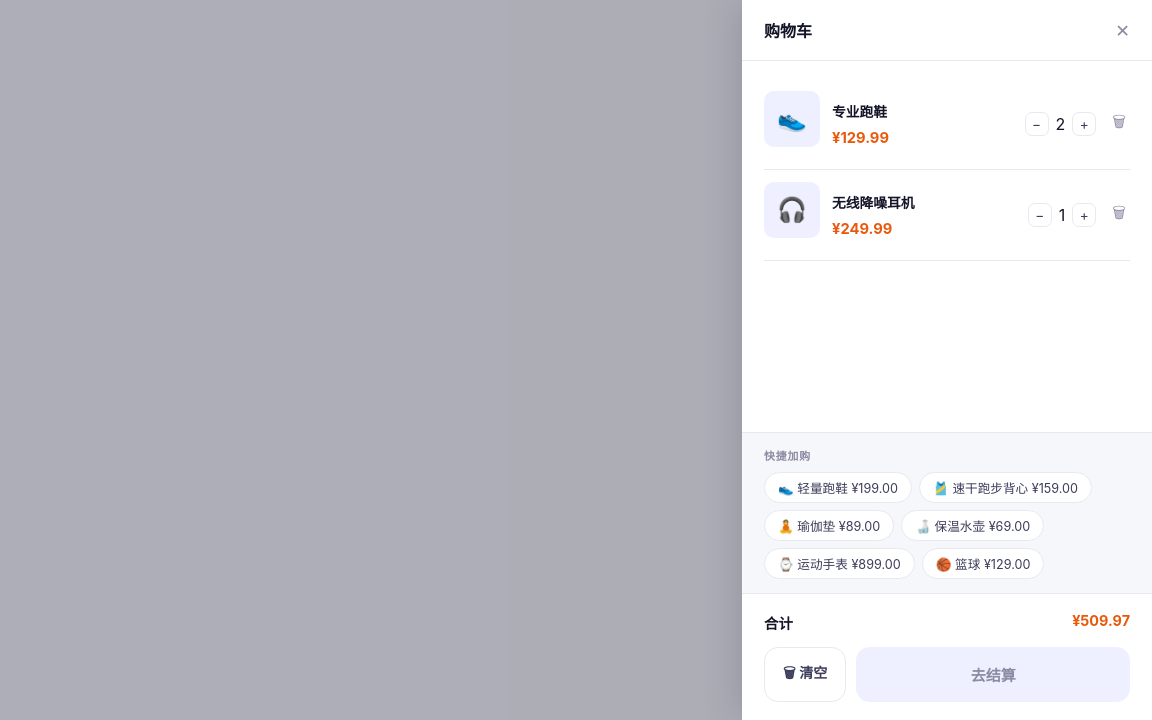
Test: 失败处理（R10-7） › 写请求 400：给出可见提示、本地投影保持与服务端一致
The image size is (1152, 720).
expect the text "专业跑鞋" is shown: met, box left=832, top=104, right=887, bottom=120
Click the button named "增加 专业跑鞋 数量" at [1084, 124], box left=1072, top=112, right=1096, bottom=136
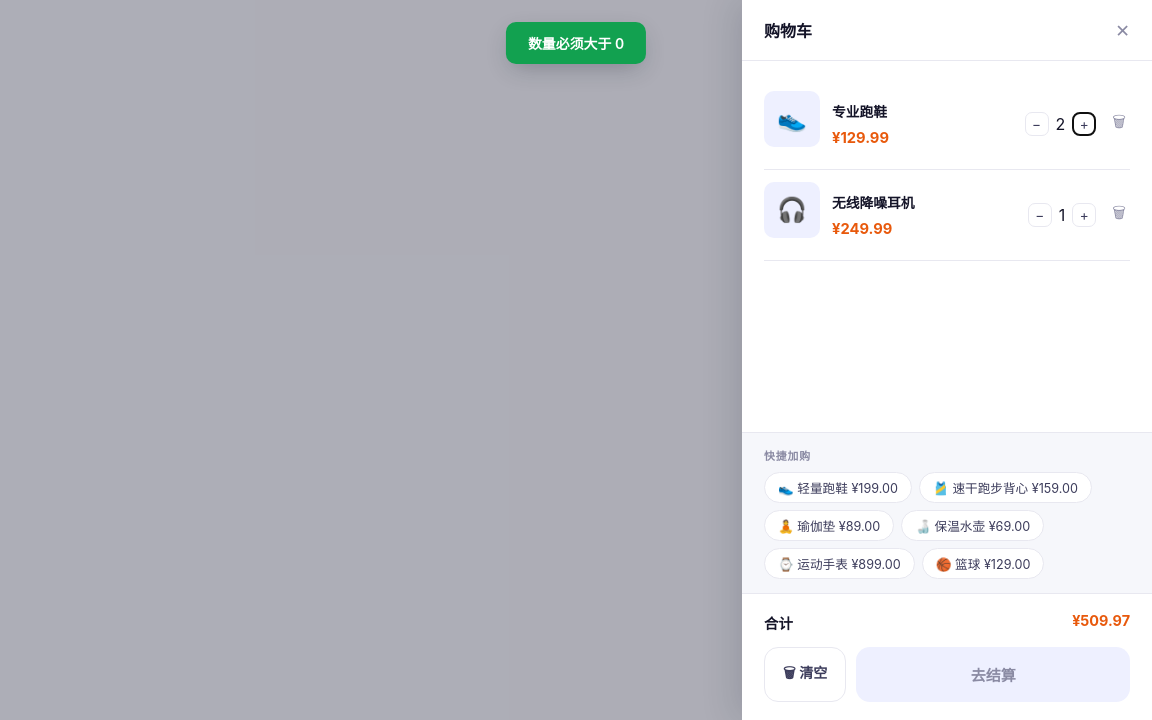
expect the message reads "数量必须大于 0": met, box left=528, top=36, right=624, bottom=52
